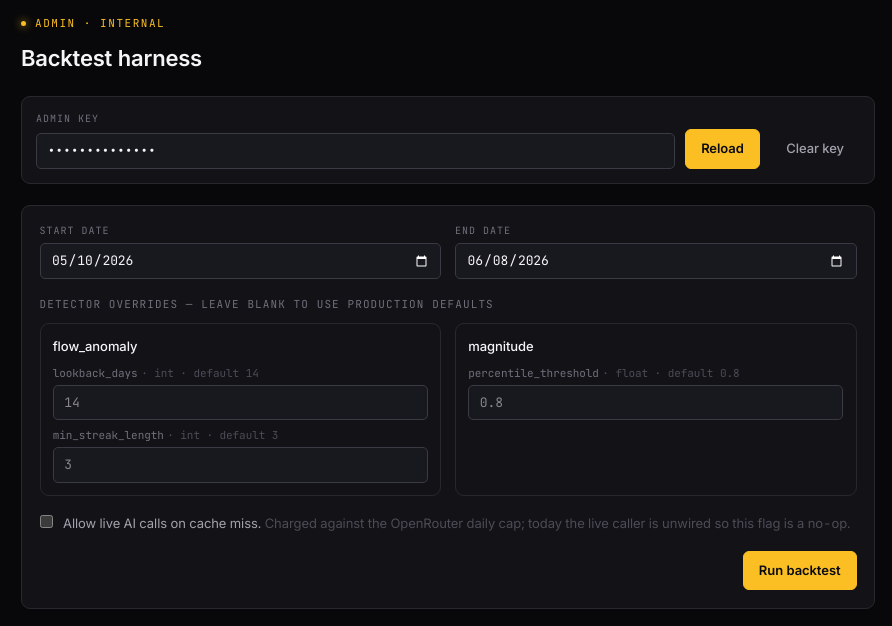
Scenario: BacktestPage pending state › renders the elapsed timer while the mutation is in flight
Expected: the text "flow_anomaly" is shown, [53,338,137,354]
Click the button "Run backtest": (800, 570) [743,550,856,590]
Wait 2000 ms
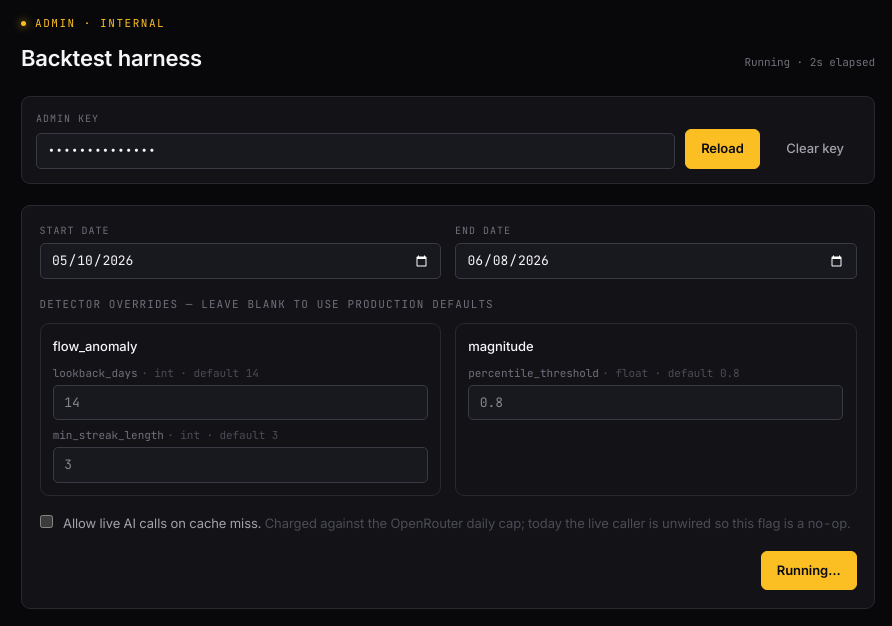
Result: the button "Running…" is disabled at [761,550,857,590]
Result: the text "Running · 2s elapsed" is shown at [744,55,875,69]
